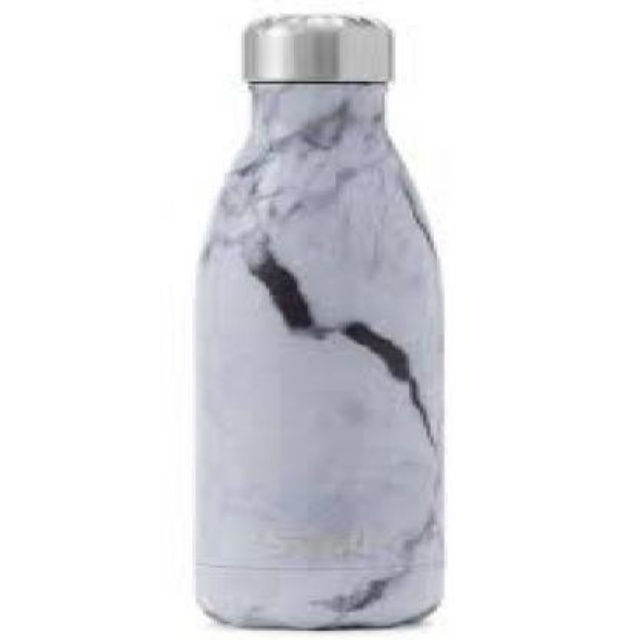trash: (195, 15, 443, 626)
